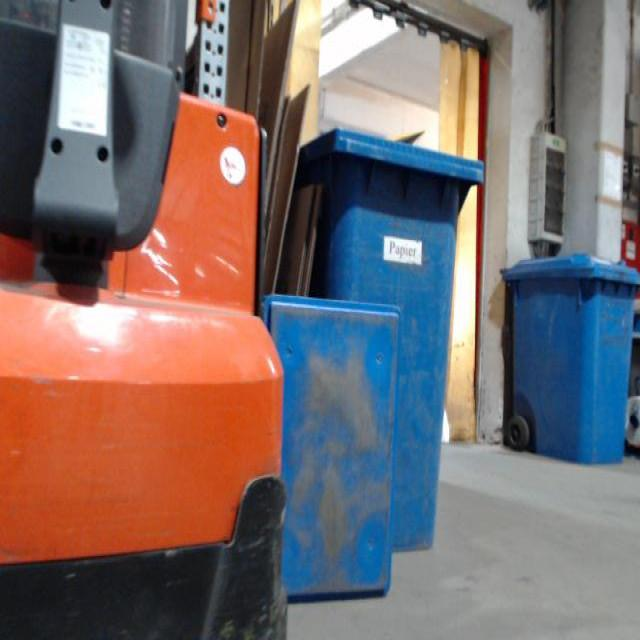pallet_truck: (3, 0, 290, 637)
